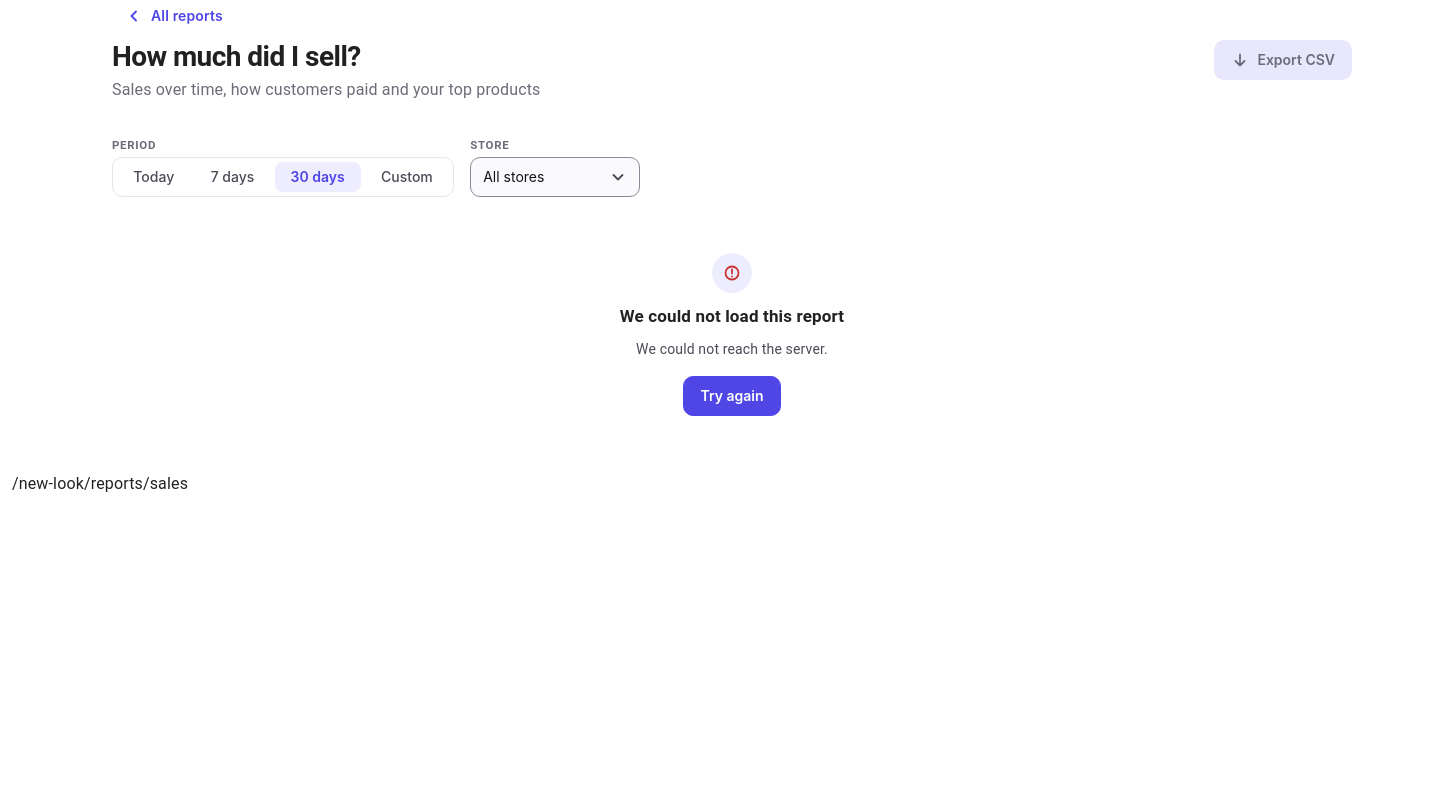
Test: loading and errors › a failure says so and Try again asks once more
The width and height of the screenshot is (1452, 810).
Check: the heading "We could not load this report" is shown, box [620, 304, 844, 327]
Click the button "Try again". click: (732, 396)
box: [684, 376, 781, 416]
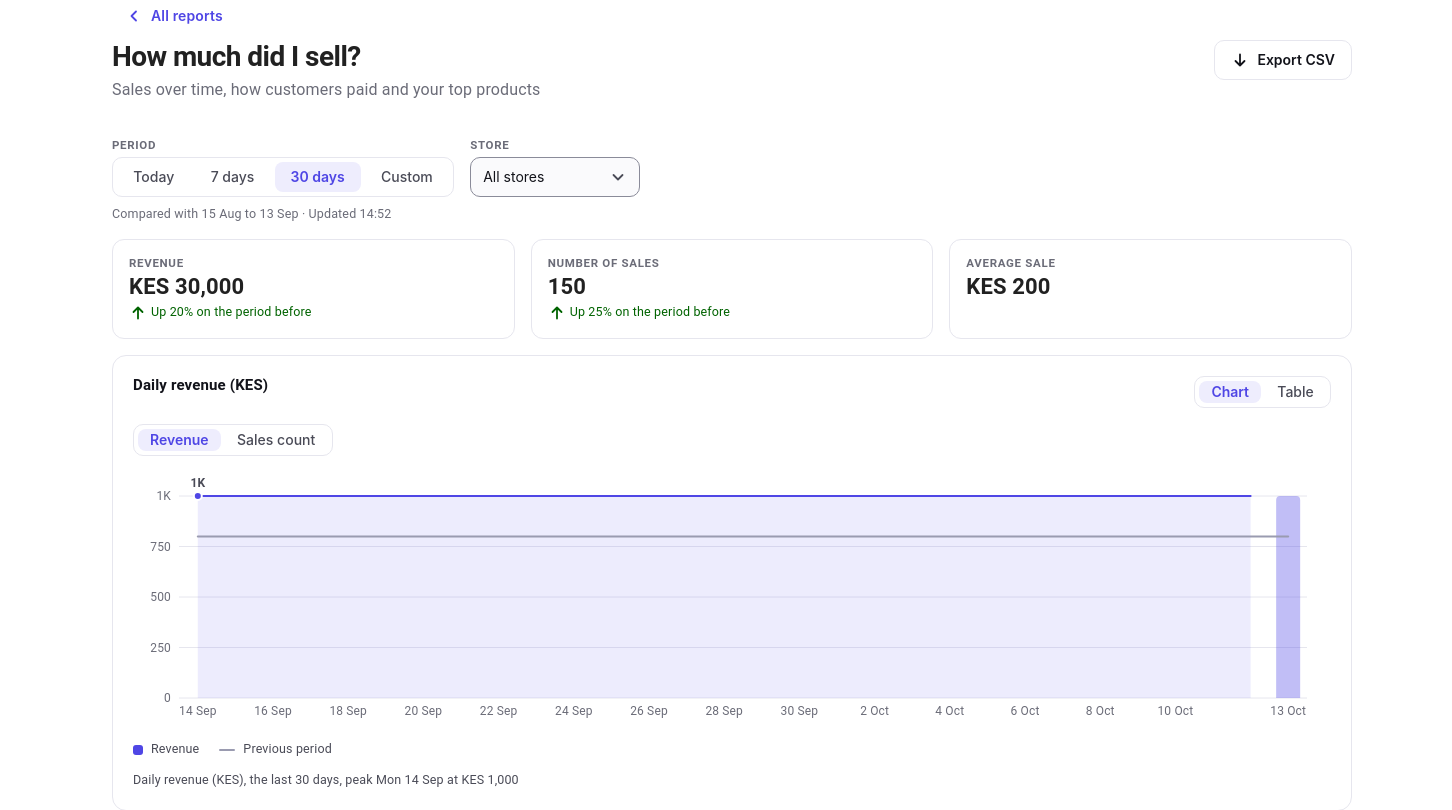
Check: the text "KES 30,000" is shown, box [129, 274, 244, 299]
